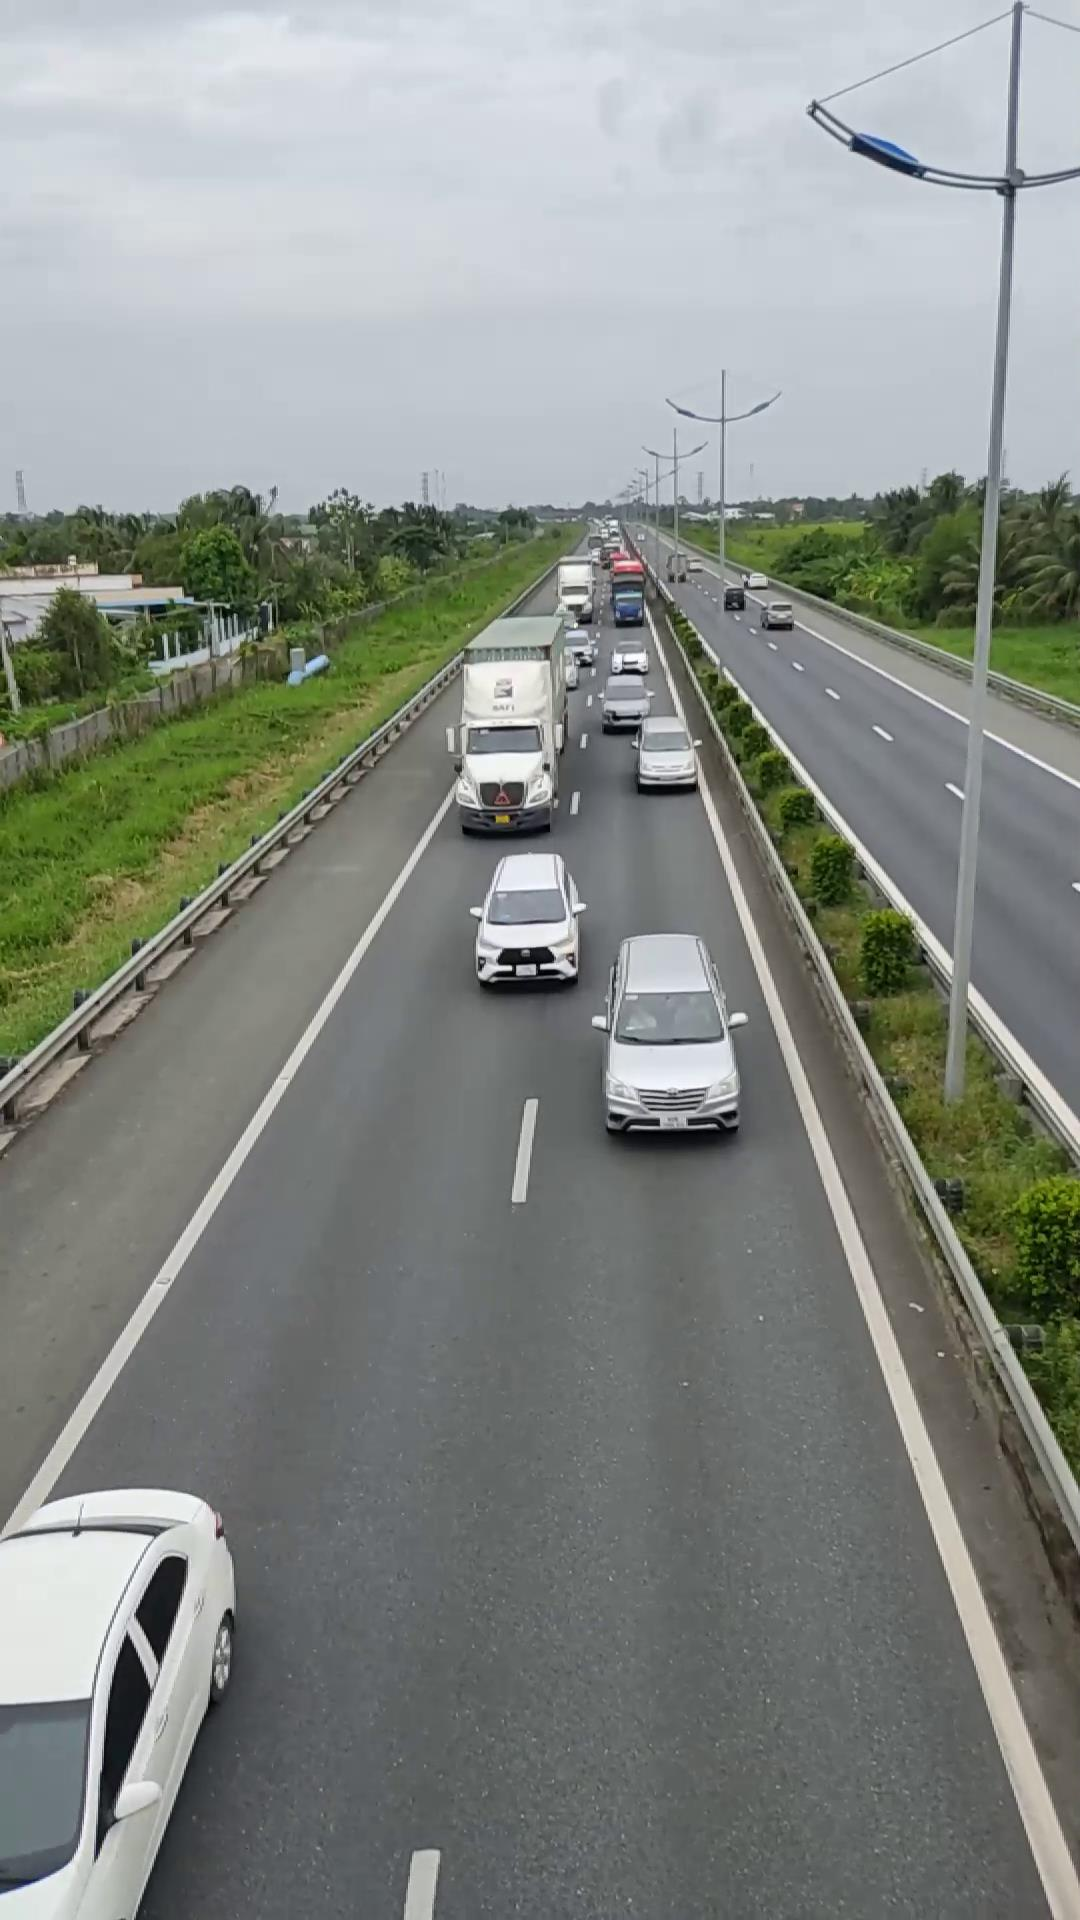car: (0, 1484, 241, 1917), (595, 930, 745, 1139), (469, 851, 588, 986), (633, 716, 702, 791)
container: (448, 613, 571, 833)
